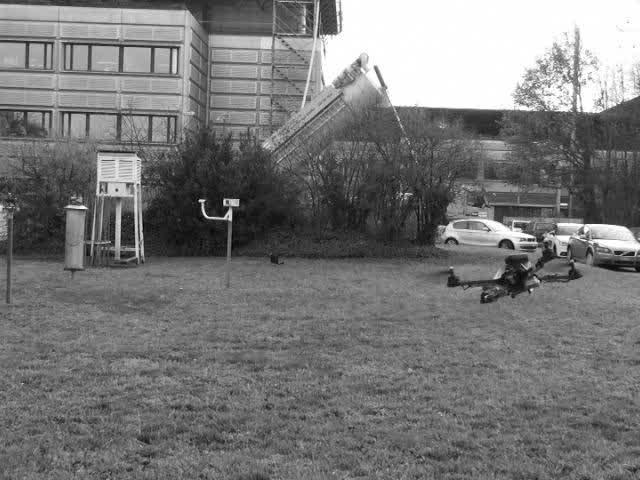drone: (417, 234, 597, 319)
